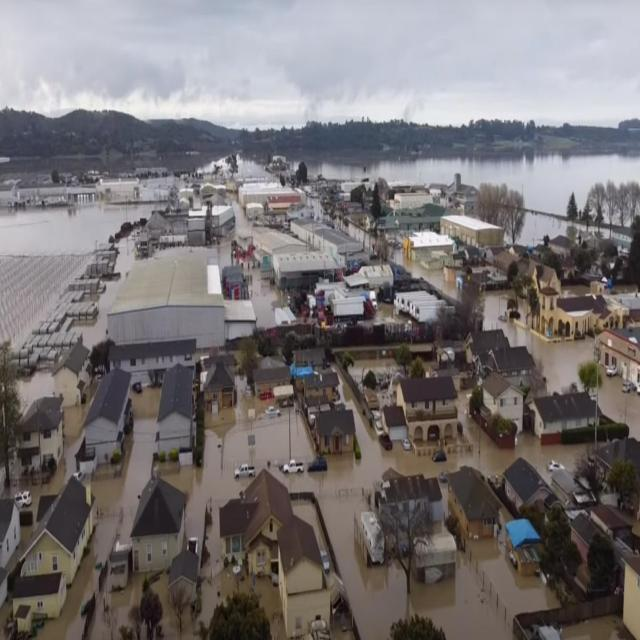flood: (37, 386, 578, 639), (0, 202, 149, 343), (306, 152, 640, 213), (485, 291, 595, 394), (0, 204, 144, 253), (73, 236, 134, 349), (600, 369, 640, 439), (521, 442, 594, 471), (411, 262, 459, 304), (152, 573, 178, 638), (63, 403, 86, 460), (524, 212, 566, 243), (18, 370, 51, 403), (564, 619, 607, 640), (608, 617, 630, 639)
house: (107, 254, 226, 348), (18, 474, 98, 592), (278, 515, 333, 640), (80, 364, 136, 475), (241, 467, 296, 573), (375, 462, 445, 538), (447, 461, 504, 547), (154, 361, 198, 466), (401, 376, 460, 447), (530, 388, 605, 441), (19, 394, 67, 476), (503, 453, 559, 520), (410, 529, 459, 594), (134, 477, 186, 538), (481, 372, 526, 435), (240, 182, 305, 224), (440, 213, 505, 254), (505, 514, 542, 586), (13, 572, 70, 618), (274, 251, 339, 290), (314, 404, 356, 460), (599, 326, 640, 380), (621, 555, 640, 640), (556, 296, 592, 335), (168, 550, 198, 596), (304, 368, 340, 406), (204, 359, 236, 400), (253, 363, 292, 387), (569, 512, 596, 546), (539, 283, 556, 335), (394, 190, 433, 210), (548, 235, 576, 258)
